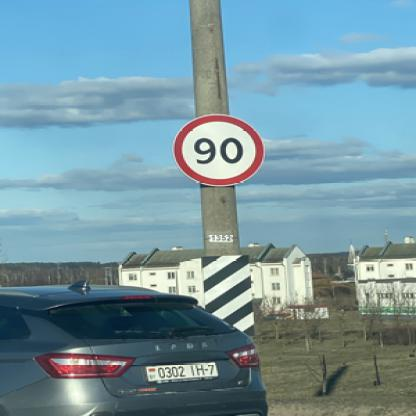speedlimit: (170, 113, 262, 185)
